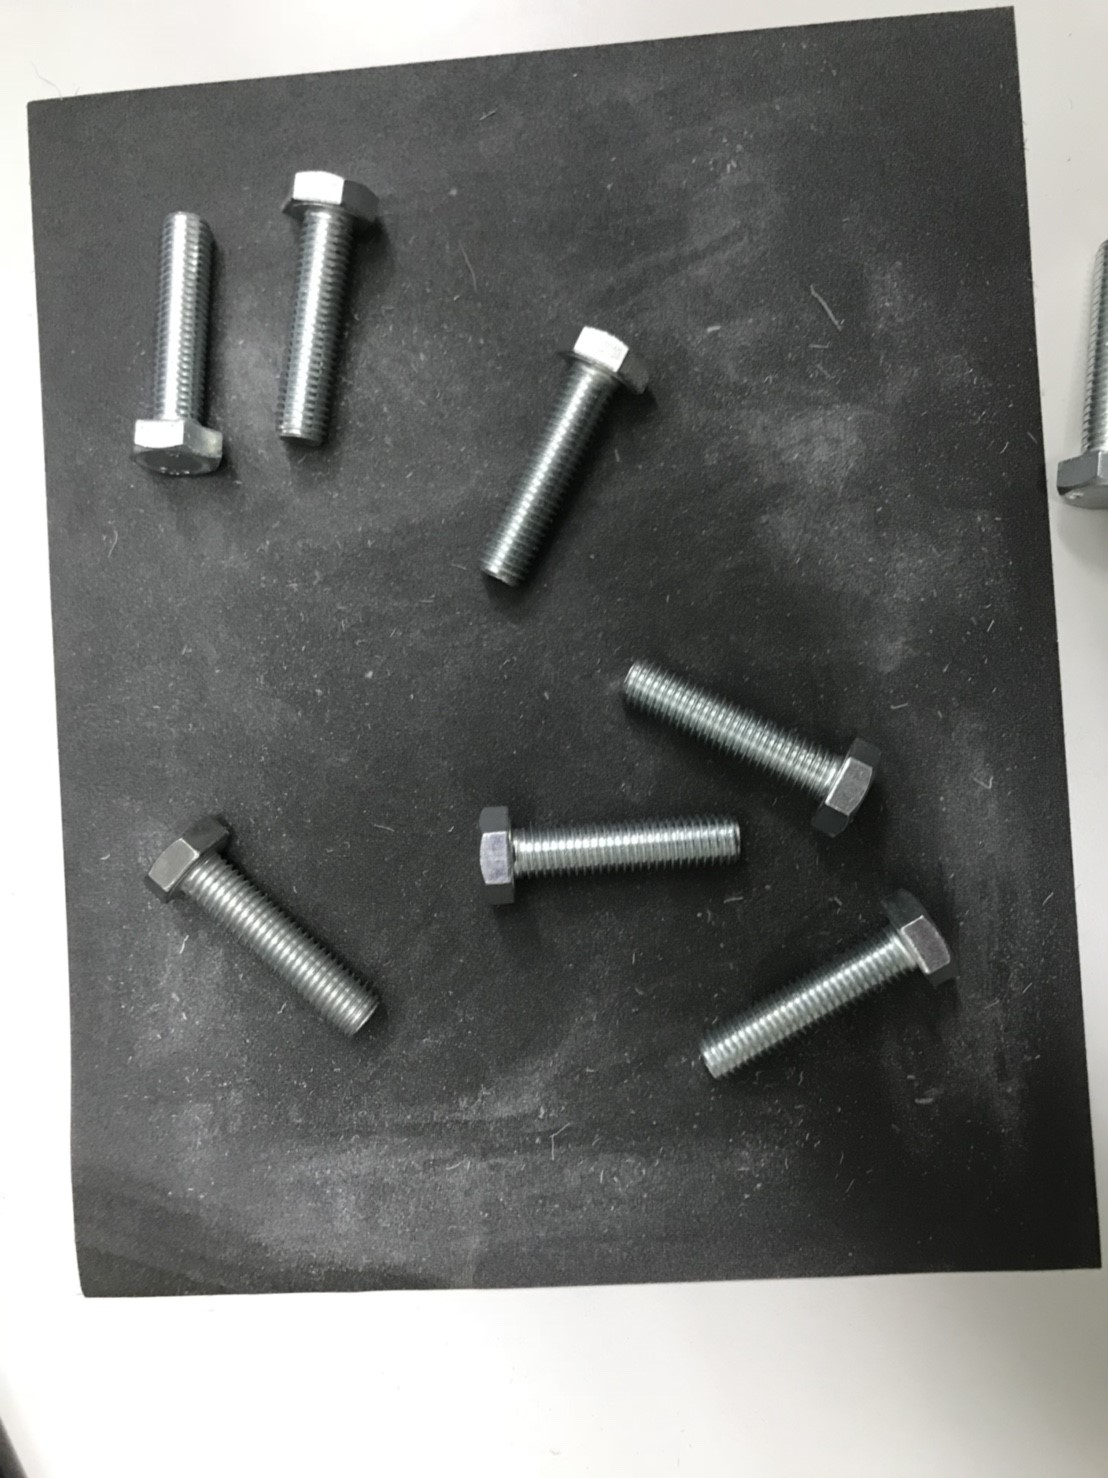screw: (138, 804, 381, 1042), (468, 317, 656, 604), (690, 887, 963, 1083), (613, 663, 887, 840), (265, 159, 384, 470), (460, 805, 766, 914), (125, 204, 237, 491)
